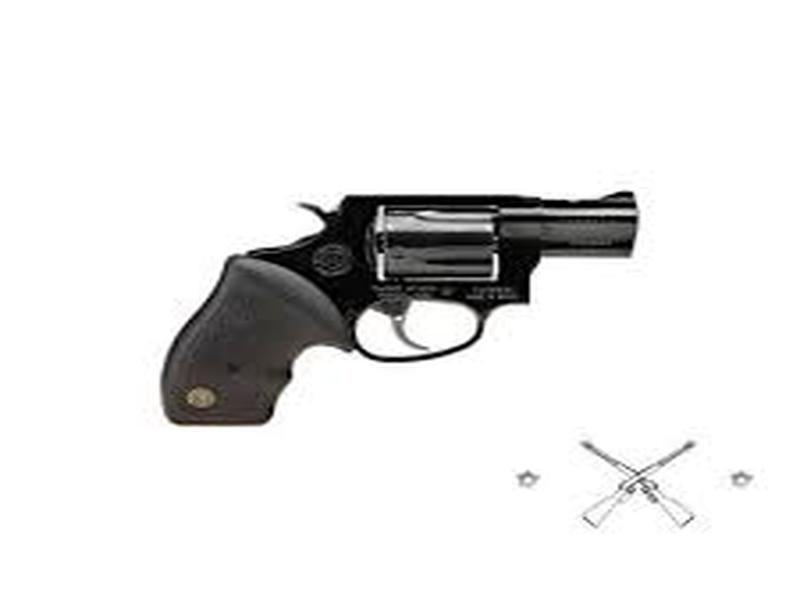gun: (151, 184, 644, 429)
